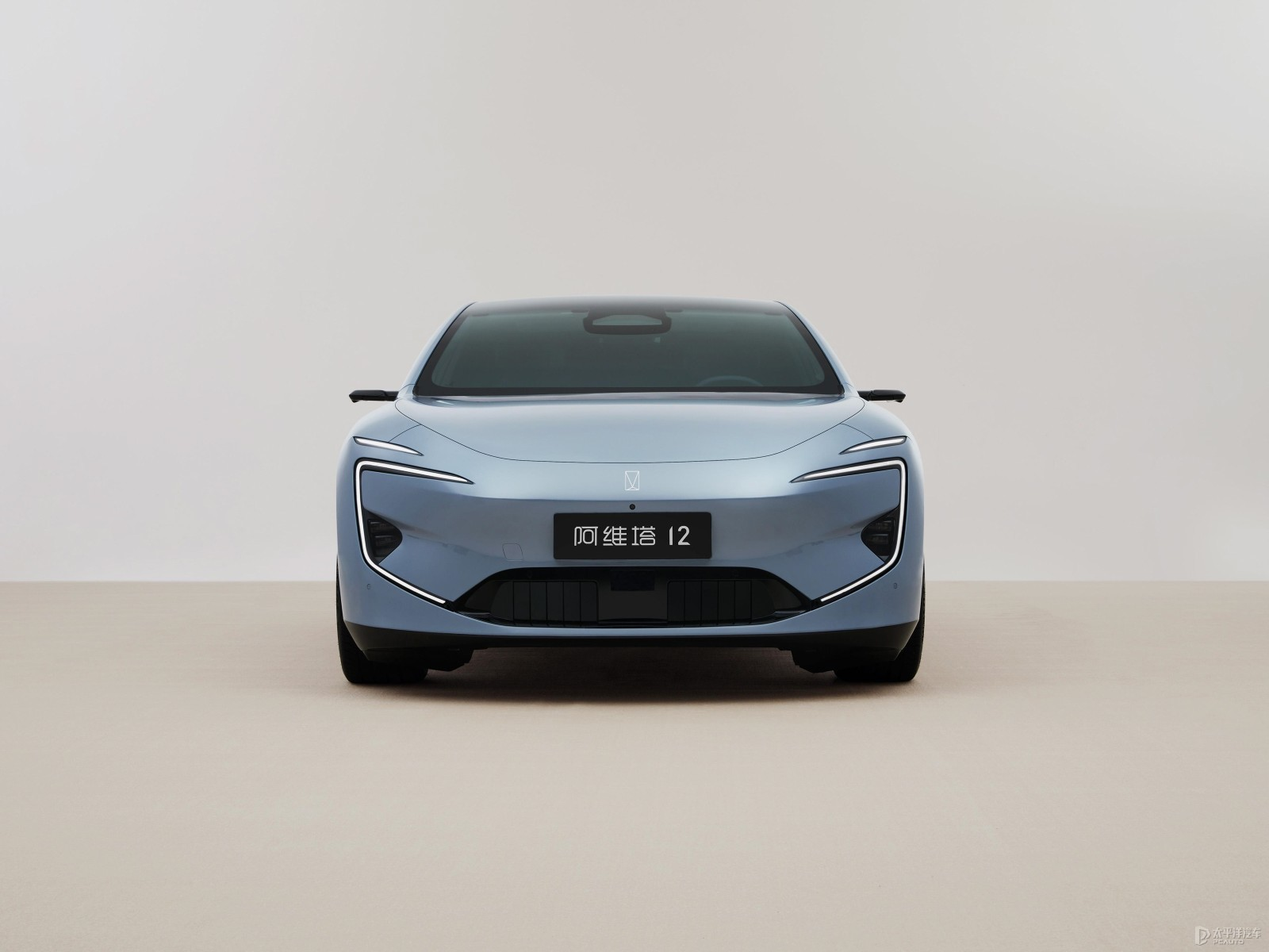AVATR: (624, 471, 640, 491)
